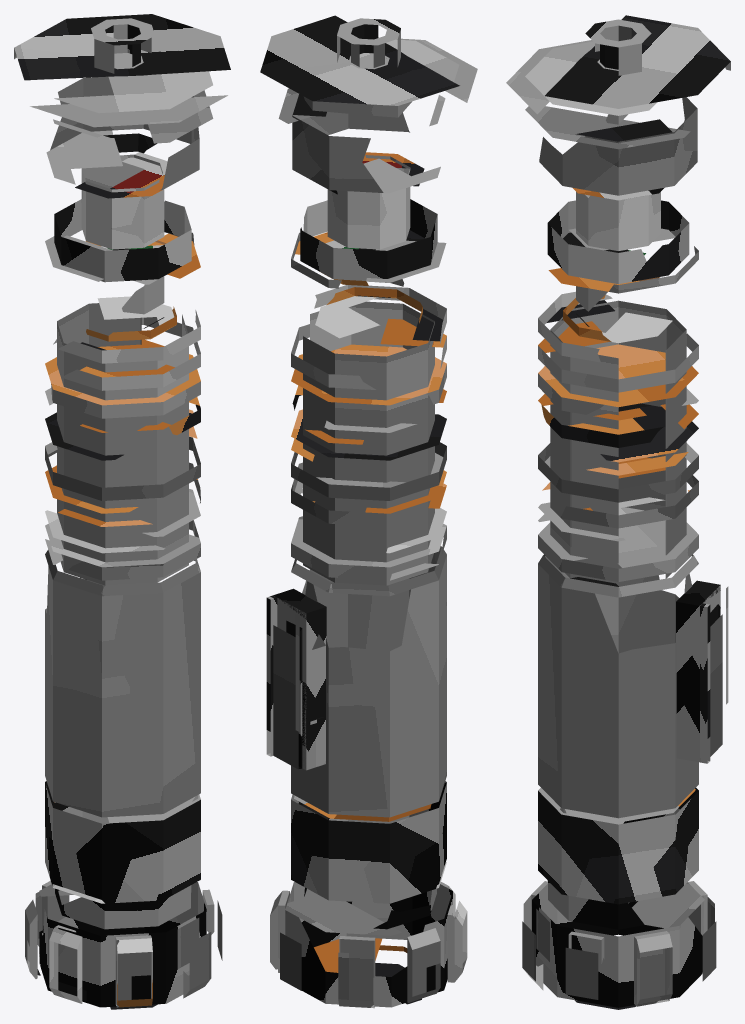
File: lightsaber_luke_rotj.obj
3 views of the same model, side by side, from view 1: azimuth 30°, elevation 25°; view 2: azimuth 150°, elevation 25°; view 3: azimuth 270°, elevation 25° (orthographic).
Parts seen in each view (by area): view 1: Cylinder; view 2: Cylinder; view 3: Cylinder.
Boxes of the visible parts, x1,y1,x2,y2 form: Cylinder: (14, 14, 230, 1009); Cylinder: (260, 15, 477, 1008); Cylinder: (506, 15, 730, 1009).
Bounding box in the file's own units: 3.6 × 16.8 × 3.6.
